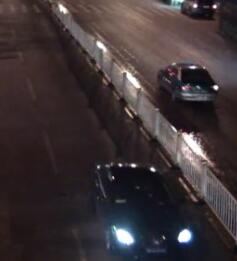car: (85, 160, 207, 254), (156, 62, 222, 103), (179, 2, 220, 15)
